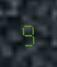nine: (19, 20, 36, 46)
